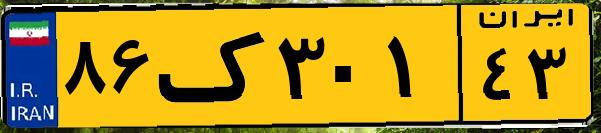0: (330, 28, 385, 110)
1: (385, 28, 445, 110)
3: (270, 28, 330, 110), (525, 38, 570, 115)
4: (475, 38, 525, 113)
6: (110, 28, 158, 98)
8: (57, 26, 110, 100)
ک: (158, 12, 270, 120)
